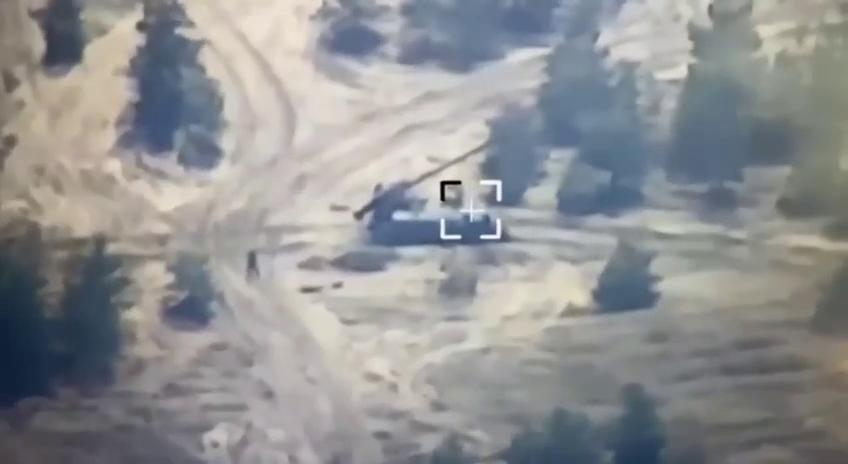tank: (352, 138, 509, 247)
